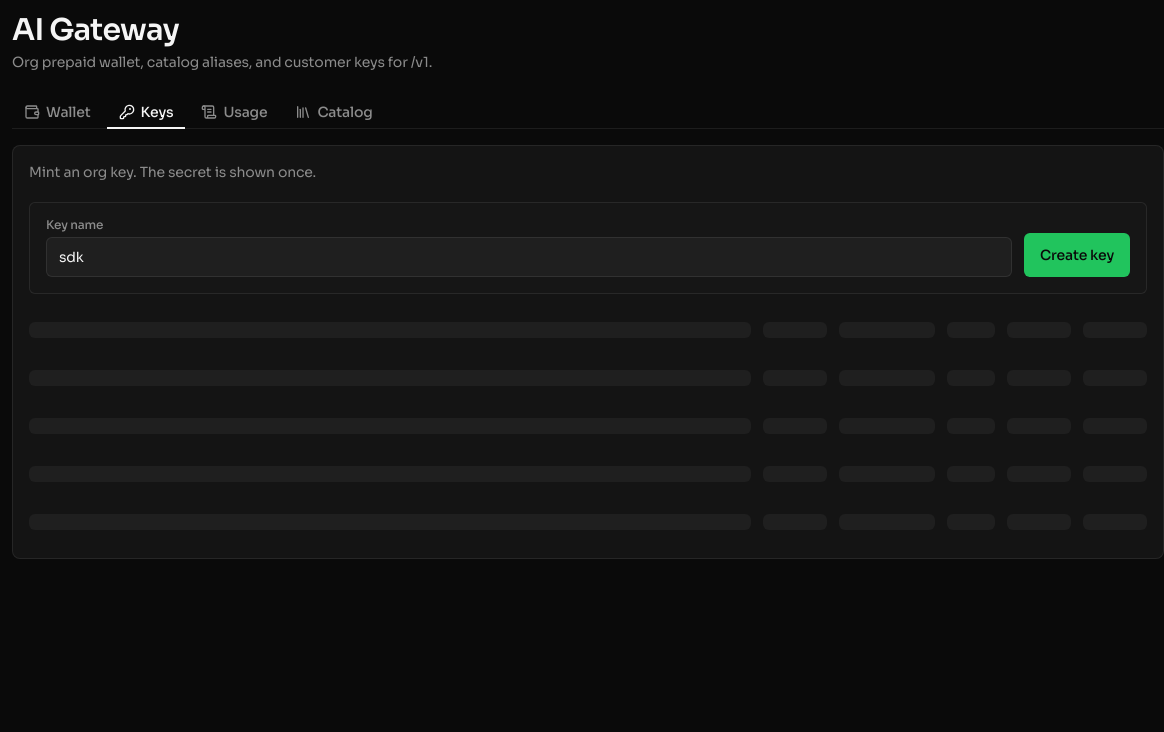
Scenario: AI Gateway page › shows table skeletons on keys, usage, and catalog while those queries are pending
Check: the element with test id "ai-keys-card" is shown, box [12, 145, 1163, 559]
Click the tab with test id "ai-tab-usage" at (234, 112), box [189, 96, 279, 128]
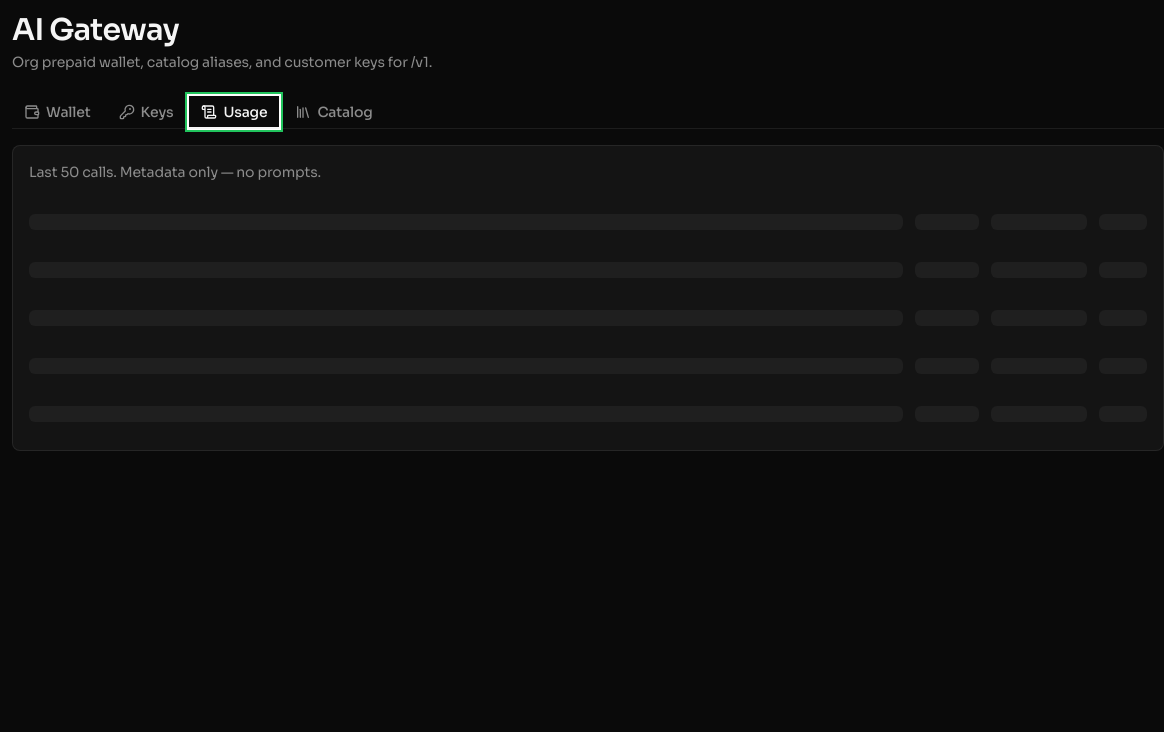
Click the tab with test id "ai-tab-catalog" at (334, 112), box [283, 96, 385, 128]
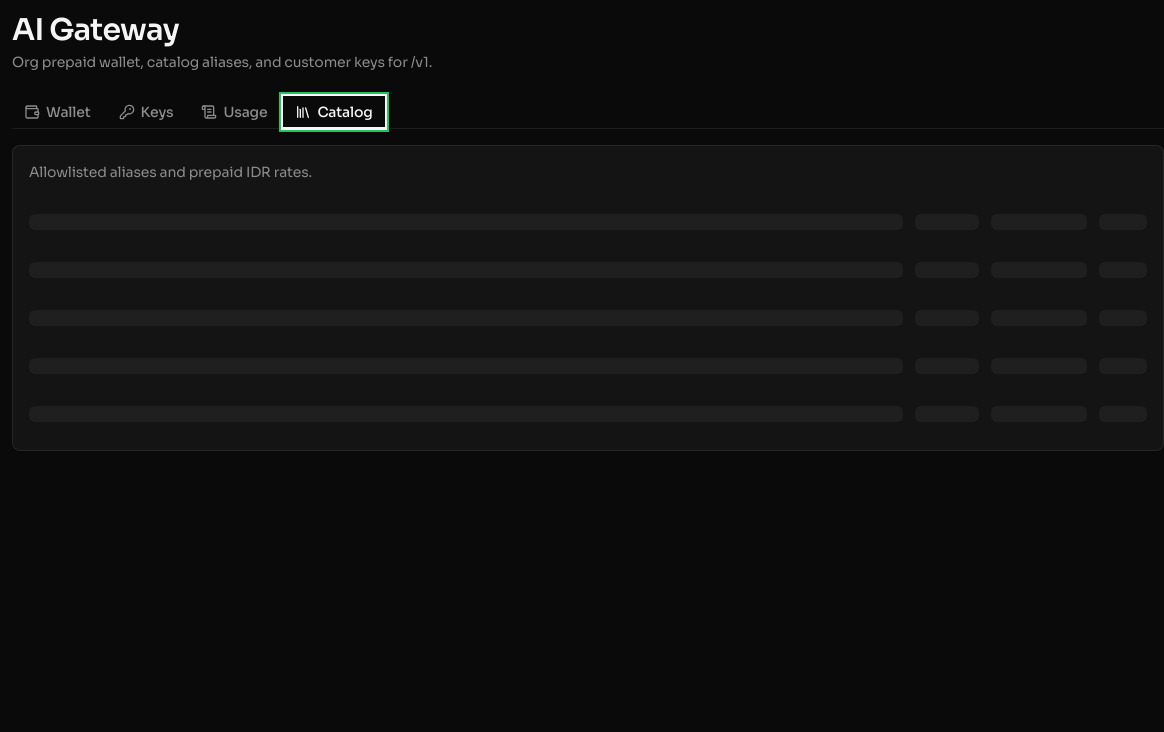
Check: the element with test id "ai-catalog-card" is shown, box [12, 145, 1163, 451]
